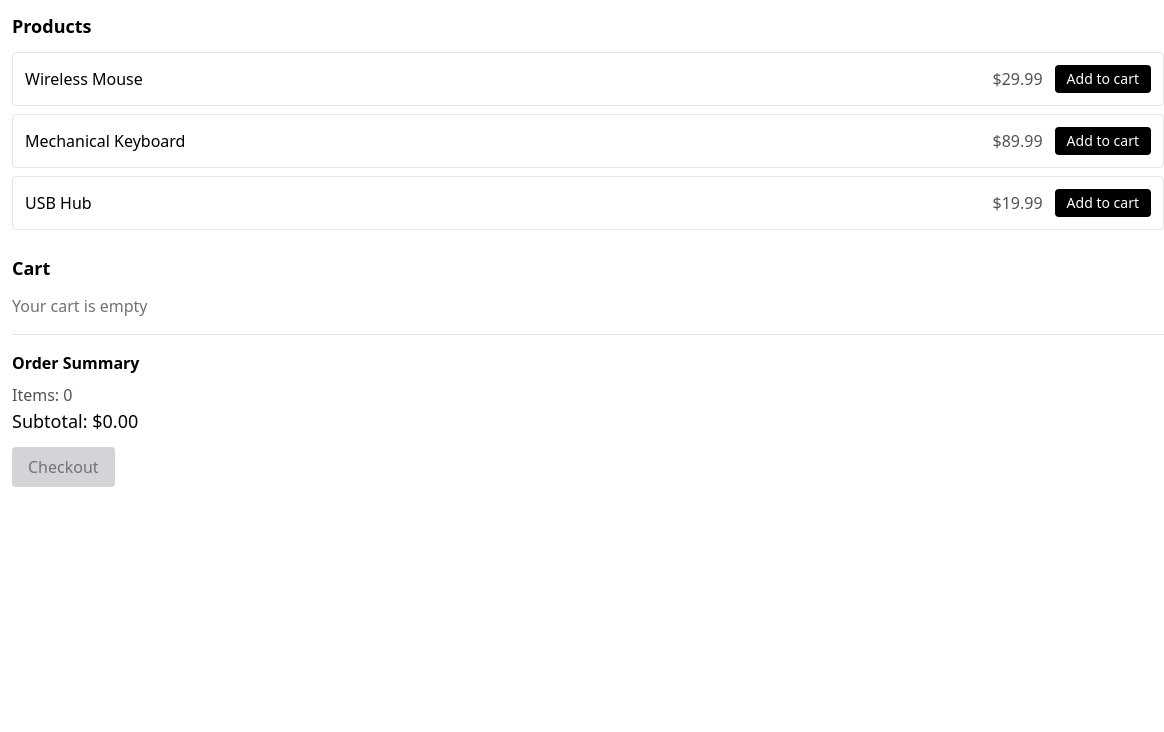
ShoppingCart (integration) › removes item from cart when decrease reaches 0
The width and height of the screenshot is (1164, 732).
expect the text "Wireless Mouse" is shown: met, box 25,67 -> 143,91
Click the button "Add to cart" next to "29.99" at (1103, 79), box 1055,65 -> 1151,93
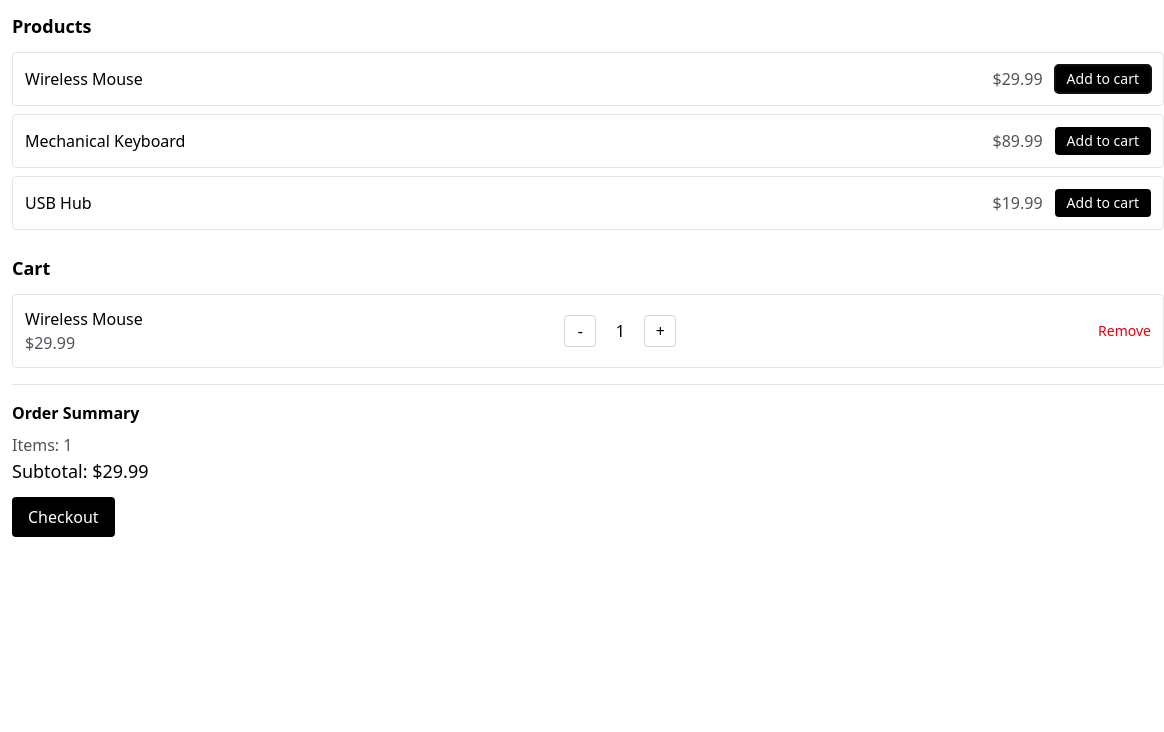
Click the button named "Decrease Wireless Mouse quantity" at (580, 331), box 564,315 -> 596,347
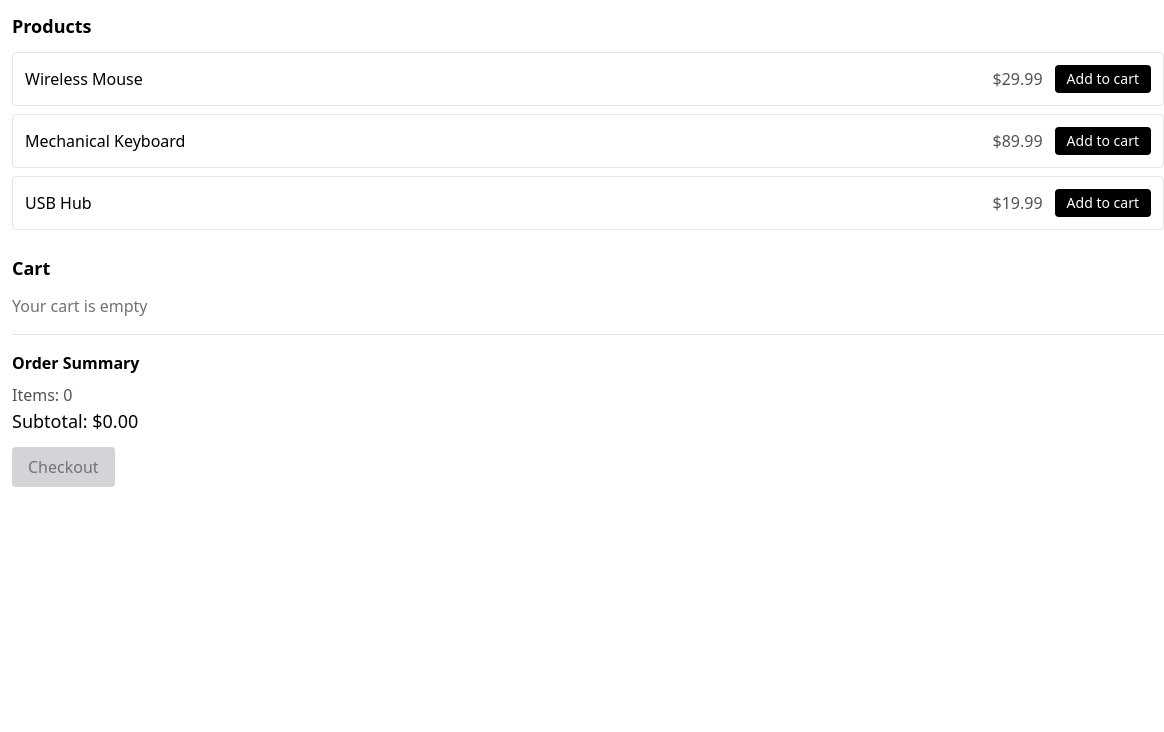
expect the text "Your cart is empty" is shown: met, box 12,295 -> 148,317
